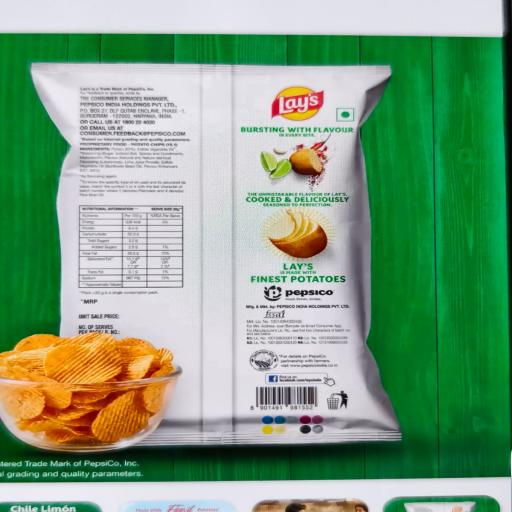green_chips: (31, 62, 401, 447)
